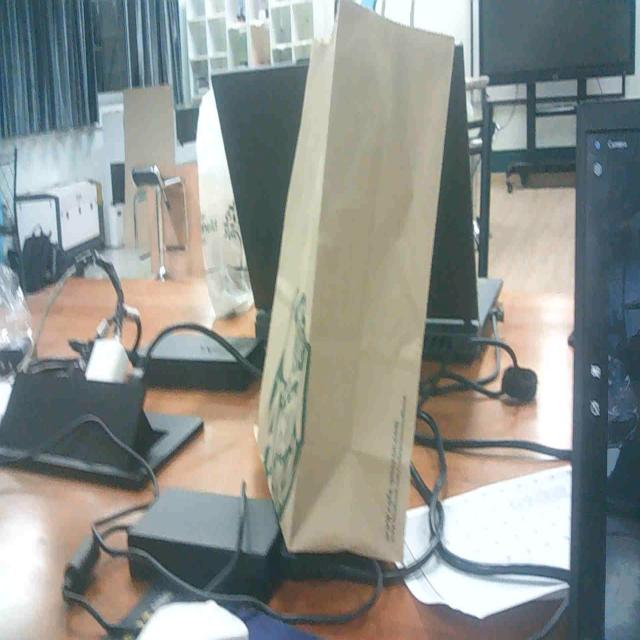bag: (260, 0, 458, 572)
